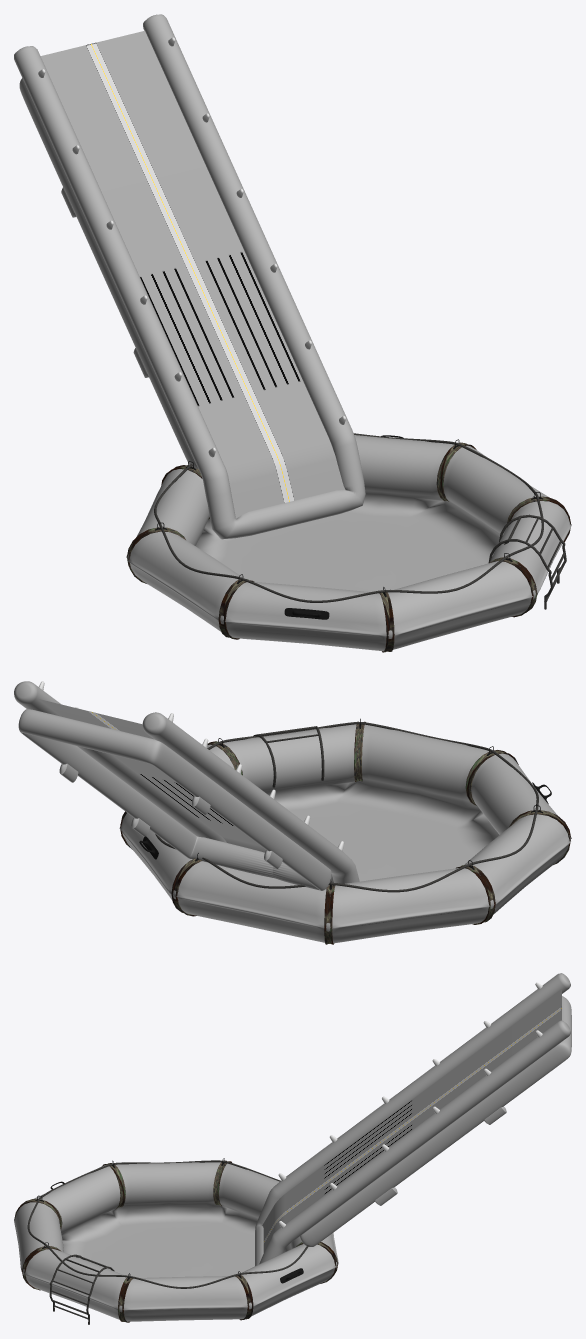
File: Inflatable-Raft-UPDATED.fbx
The picture shows the model from 3 angles, top to bottom: view 1: azimuth 30°, elevation 25°; view 2: azimuth 150°, elevation 25°; view 3: azimuth 270°, elevation 25°; orthographic projection. The views are drawn at different scales.
Visible parts, largest first — view 1: Torus.002_Mesh.002, Plane, Cylinder, Cylinder.001; view 2: Torus.002_Mesh.002, Cylinder.001, Cylinder, Plane; view 3: Torus.002_Mesh.002, Cylinder, Plane, Cylinder.001.
Part boxes in pixels (<box>): Torus.002_Mesh.002: <box>126,433,571,652</box>; Plane: <box>40,30,345,519</box>; Cylinder: <box>14,14,365,539</box>; Cylinder.001: <box>19,78,198,468</box>; Torus.002_Mesh.002: <box>119,718,571,944</box>; Cylinder.001: <box>18,709,331,890</box>; Cylinder: <box>14,681,359,883</box>; Plane: <box>38,699,333,882</box>; Torus.002_Mesh.002: <box>14,1158,338,1324</box>; Cylinder: <box>255,973,570,1265</box>; Plane: <box>262,989,561,1252</box>; Cylinder.001: <box>300,996,571,1246</box>.
Size of the model in its own units: 30227 by 27906 by 52122.
